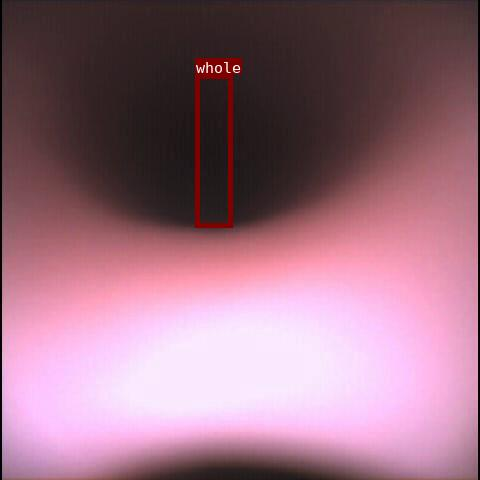whole: (195, 74, 232, 227)
